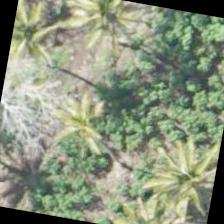Kelapa_Sawit: (135, 117, 223, 218), (3, 0, 78, 94), (55, 0, 156, 69)
